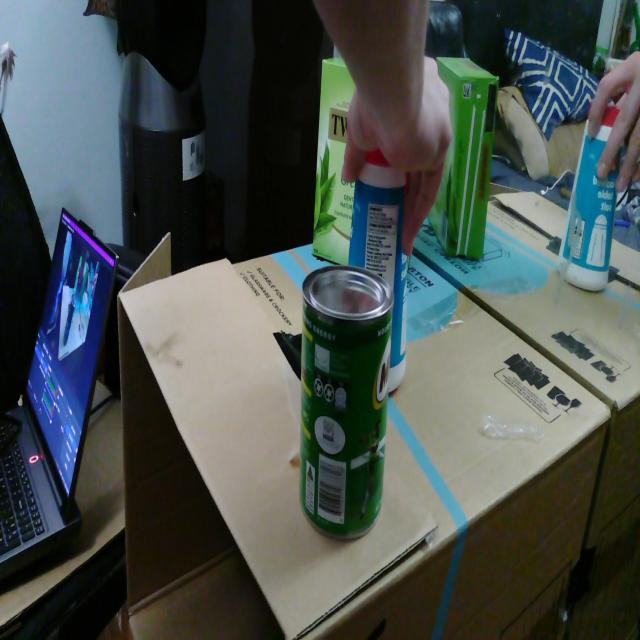nestle_milo_tin: (300, 265, 394, 540)
twinings_greentea_box: (312, 58, 356, 265)
woolworths_salt_bottle: (348, 148, 408, 392)
